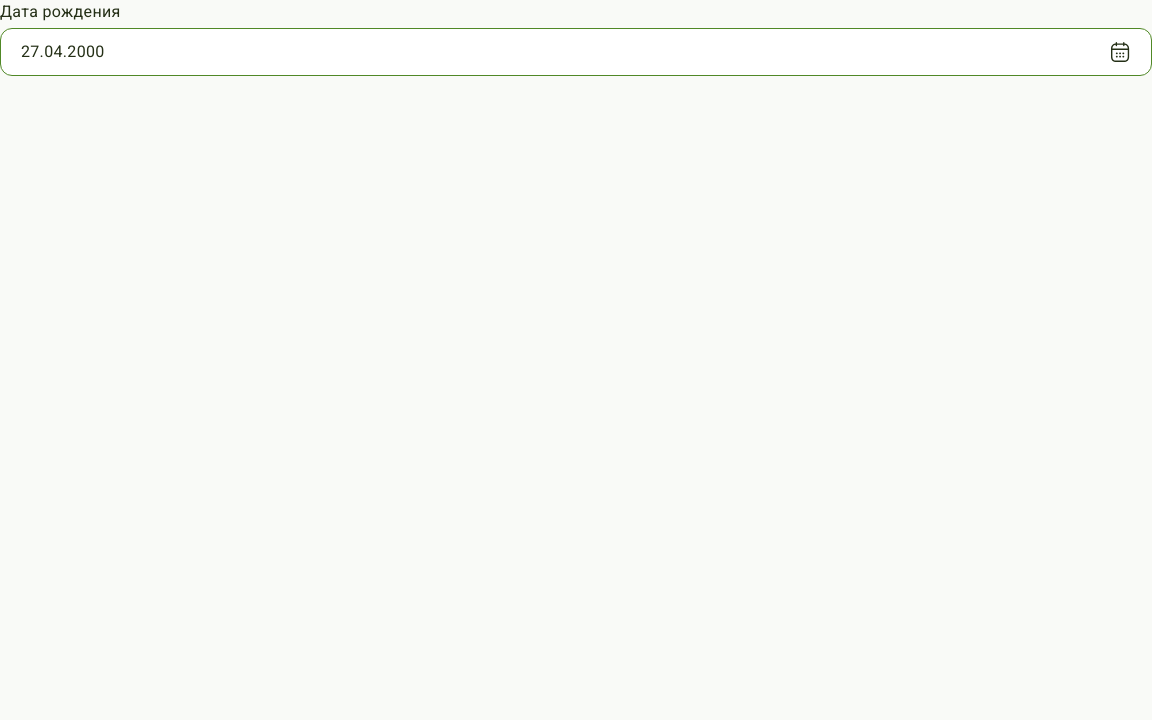
DatePicker › подтверждает дату только по кнопке «Выбрать» и возвращает ISO без времени
The width and height of the screenshot is (1152, 720).
Click the button named "Открыть календарь": click(1120, 52) [1108,40,1132,64]
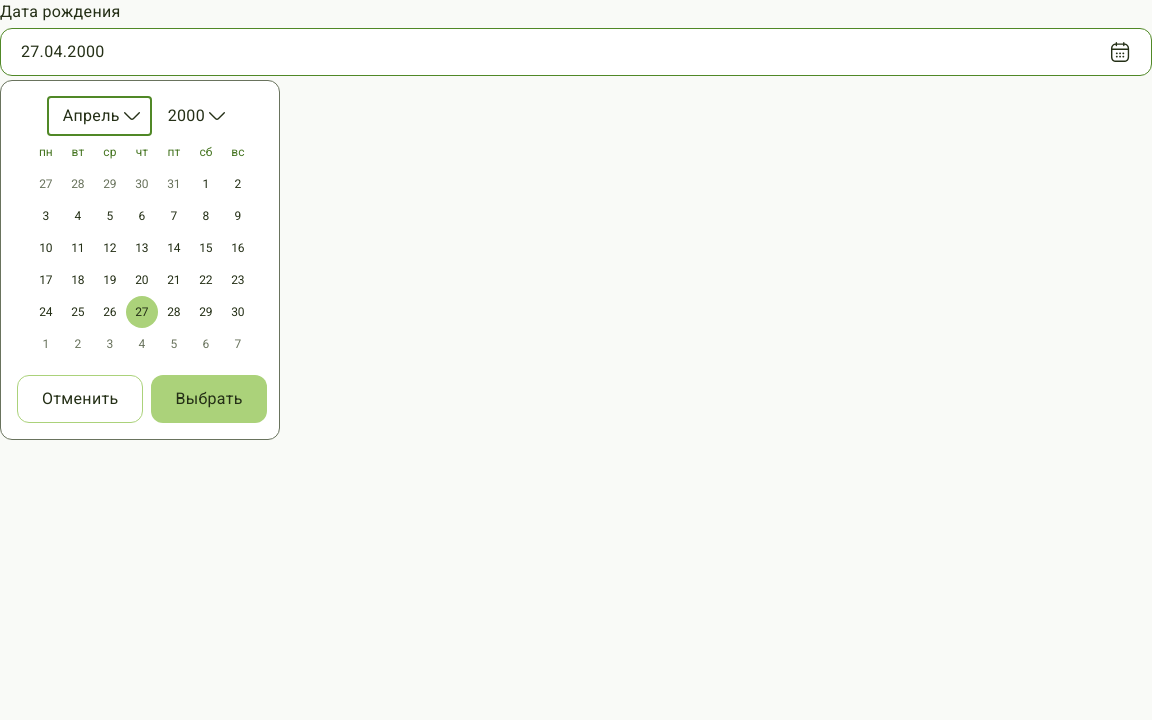
Click the cell "15": click(206, 248) [199,241,213,255]
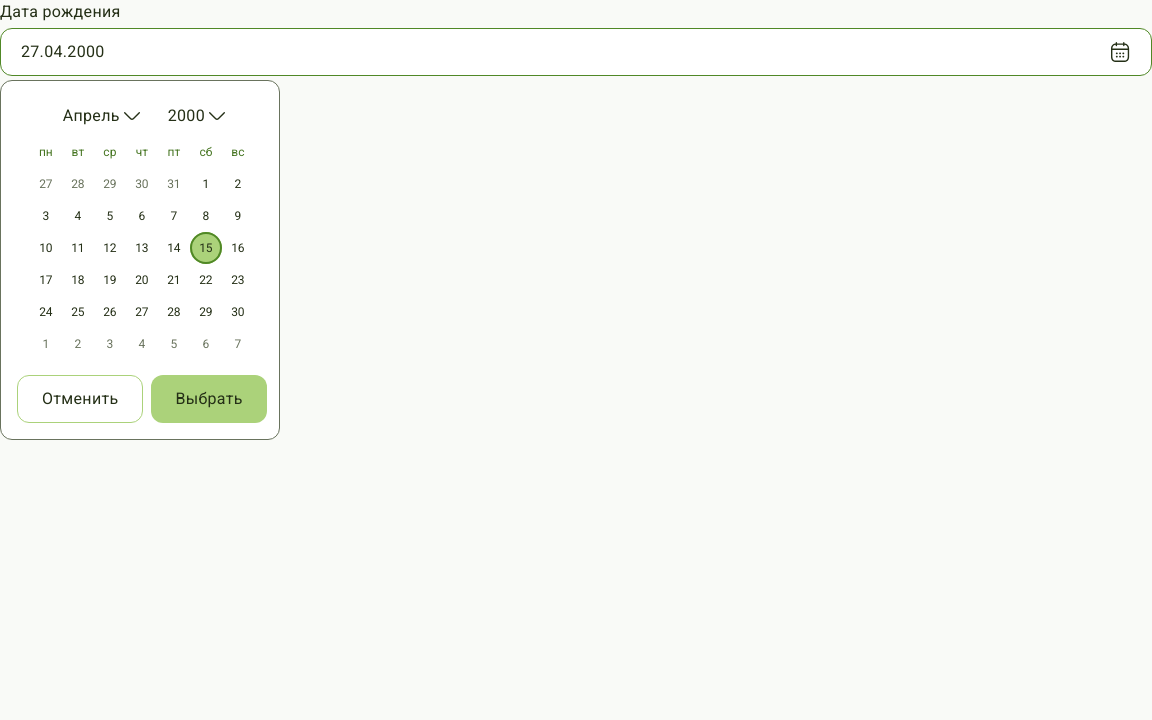
Expected: the field labelled "Дата рождения" holds "27.04.2000", [0,28,1151,76]
Click the button "Выбрать": click(209, 399) [152,375,267,423]
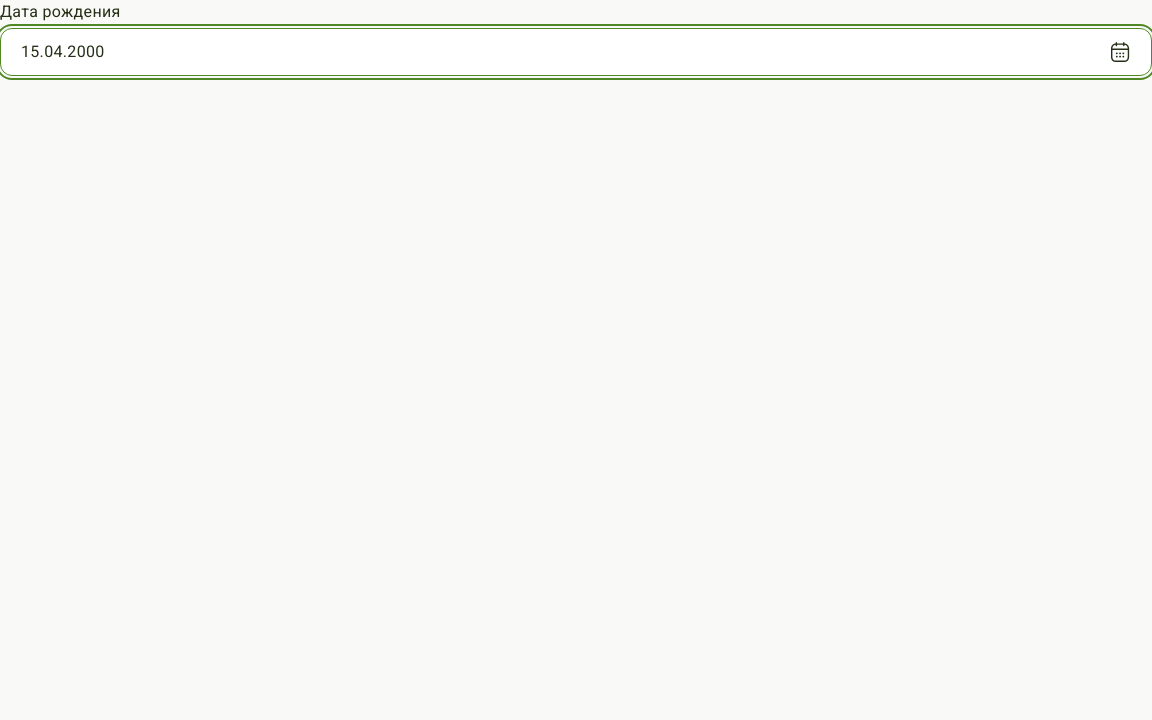
Result: the dialog is gone
